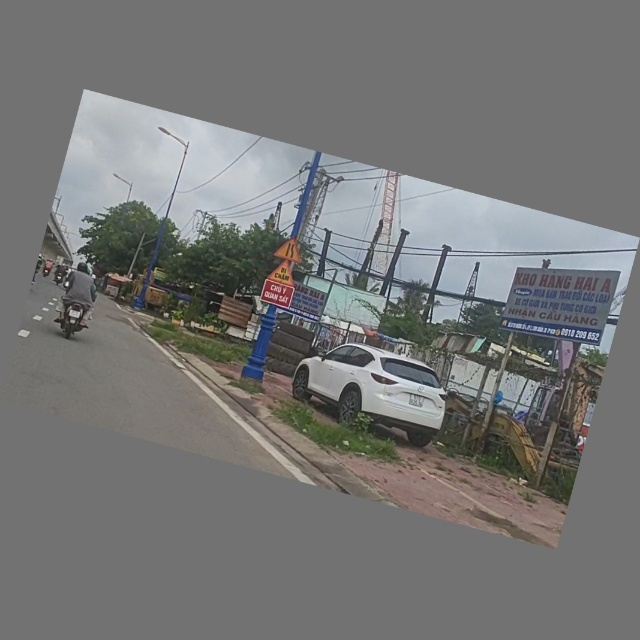W.203c: (273, 234, 307, 264)
W.245a: (266, 257, 303, 289)
